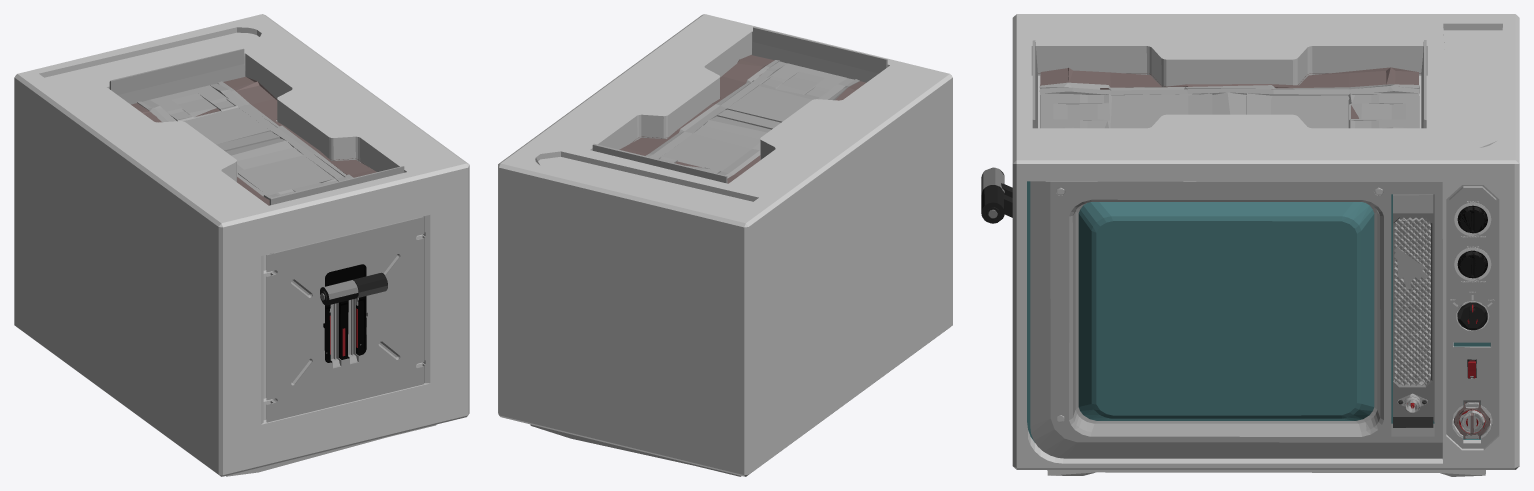
Rendered from crt1.fbx.
3 renders of one model, left to right at view 1: azimuth 30°, elevation 25°; view 2: azimuth 150°, elevation 25°; view 3: azimuth 270°, elevation 25°, orthographic. The views are drawn at different scales.
Parts seen in each view (by area): view 1: Cube, Mx_Complex_Digg_In3_Plane.005, F_Handlatch_Ob_Latchsetupa.000, Cube.001; view 2: Cube, Mx_Complex_Digg_In3_Plane.005, Cube.001; view 3: Cube, Mx_Complex_Digg_In3_Plane.005, Grate_Cut1_1_Plane.002, Cube.001, F_Handlatch_Ob_Latchsetupa.000, F_Highknob_Ob_Turnknoba1.009, Mx_Turncrank_Circle, F_Highknob_Ob_Turnknoba.009, F_Bigtwistknob_Ob_Bigknobb.003, F_Bigtwistknob_Ob_Bigknobb.001.
Part boxes in pixels (<box>): Cube: <box>14,14,469,476</box>; Mx_Complex_Digg_In3_Plane.005: <box>109,48,404,205</box>; F_Handlatch_Ob_Latchsetupa.000: <box>320,272,387,305</box>; Cube.001: <box>226,424,436,476</box>; Cube: <box>498,14,952,476</box>; Mx_Complex_Digg_In3_Plane.005: <box>592,26,887,183</box>; Cube.001: <box>530,424,741,476</box>; Cube: <box>1012,14,1519,469</box>; Mx_Complex_Digg_In3_Plane.005: <box>1032,40,1426,128</box>; Grate_Cut1_1_Plane.002: <box>1394,217,1430,385</box>; Cube.001: <box>1047,470,1485,476</box>; F_Handlatch_Ob_Latchsetupa.000: <box>981,167,1012,223</box>; F_Highknob_Ob_Turnknoba1.009: <box>1450,201,1494,331</box>; Mx_Turncrank_Circle: <box>1454,402,1490,439</box>; F_Highknob_Ob_Turnknoba.009: <box>1457,302,1487,330</box>; F_Bigtwistknob_Ob_Bigknobb.003: <box>1457,250,1487,278</box>; F_Bigtwistknob_Ob_Bigknobb.001: <box>1457,205,1487,233</box>.
Bounding box in the file's own units: 207 × 213 × 304.
